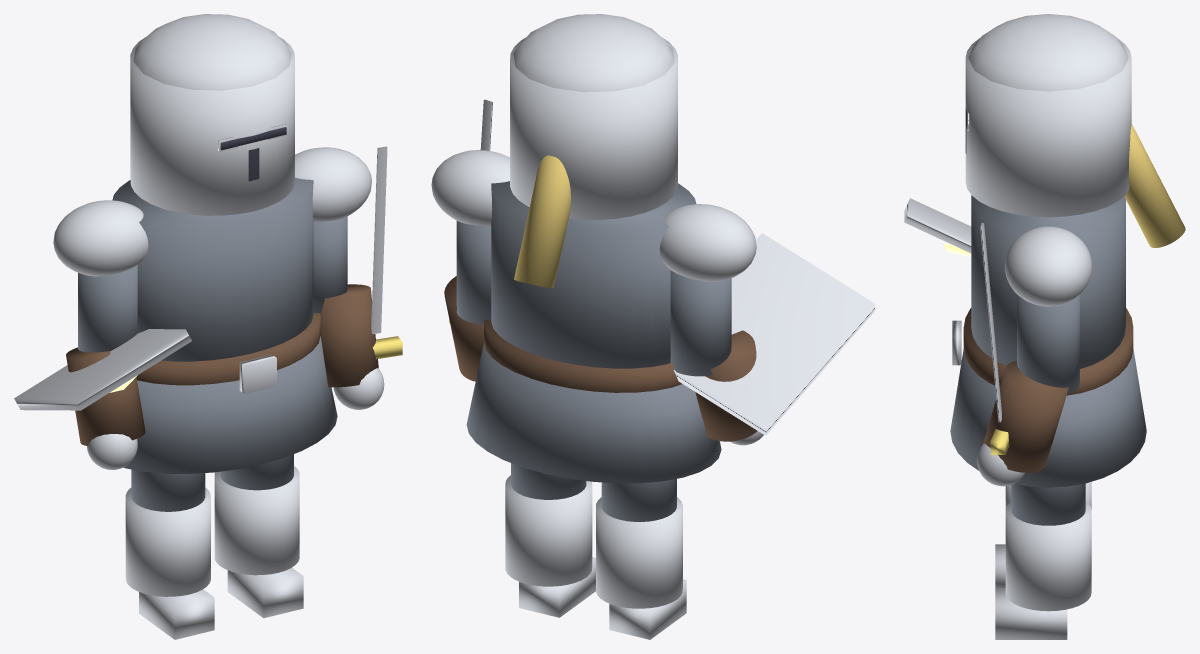
File: hero_adventurer.glb
3 views of the same model, side by side, from view 1: azimuth 30°, elevation 25°; view 2: azimuth 150°, elevation 25°; view 3: azimuth 270°, elevation 25° (orthographic). The views are drawn at different scales.
Visible parts, largest first — view 1: Cylinder.002, Cylinder, Cone, Sphere, Cylinder.005, Cylinder.007, Cube.009, Sphere.001, Cylinder.011, Cylinder.008, Sphere.003, Cylinder.003 (+11 smaller); view 2: Cylinder.002, Cone, Cylinder, Cube.009, Sphere, Cylinder.007, Cylinder.005, Sphere.001, Cylinder.008, Cylinder.003, Cylinder.001, Sphere.003 (+7 smaller); view 3: Cylinder, Cylinder.002, Cone, Sphere, Cylinder.007, Sphere.003, Cylinder.011, Cylinder.010, Cylinder.001, Cylinder.003, Cylinder.006, Cube.006 (+6 smaller).
Boxes of the visible parts, box(x1,y1,x2,y2) form: Cylinder.002: box(112, 177, 313, 361); Cylinder: box(130, 37, 294, 215); Cone: box(123, 336, 337, 473); Sphere: box(133, 14, 291, 90); Cylinder.005: box(125, 487, 210, 596); Cylinder.007: box(214, 466, 299, 575); Cube.009: box(14, 329, 191, 410); Sphere.001: box(53, 200, 148, 276); Cylinder.011: box(320, 284, 378, 387); Cylinder.008: box(78, 265, 137, 352); Sphere.003: box(295, 147, 371, 221); Cylinder.003: box(136, 313, 320, 385); Cylinder.002: box(491, 181, 696, 368); Cone: box(466, 343, 721, 483); Cylinder: box(510, 37, 677, 219); Cube.009: box(673, 233, 875, 435); Sphere: box(513, 14, 674, 92); Cylinder.007: box(505, 475, 592, 586); Cylinder.005: box(596, 497, 682, 608); Sphere.001: box(659, 204, 756, 281); Cylinder.008: box(670, 270, 731, 376); Cylinder.003: box(484, 319, 682, 392); Cylinder.001: box(514, 155, 570, 288); Sphere.003: box(431, 150, 509, 226); Cylinder: box(965, 38, 1131, 217); Cylinder.002: box(971, 195, 1125, 368); Cone: box(950, 349, 1146, 487); Sphere: box(968, 14, 1128, 91); Cylinder.007: box(1005, 501, 1091, 611); Sphere.003: box(1005, 226, 1092, 306); Cylinder.011: box(983, 361, 1068, 472); Cylinder.010: box(1017, 294, 1079, 393); Cylinder.001: box(1125, 124, 1185, 247); Cylinder.003: box(963, 308, 1133, 395); Cylinder.006: box(1011, 483, 1085, 525); Cube.006: box(995, 587, 1067, 639).
Size of the model in its own units: 0.7515 by 1.12 by 0.4912.
